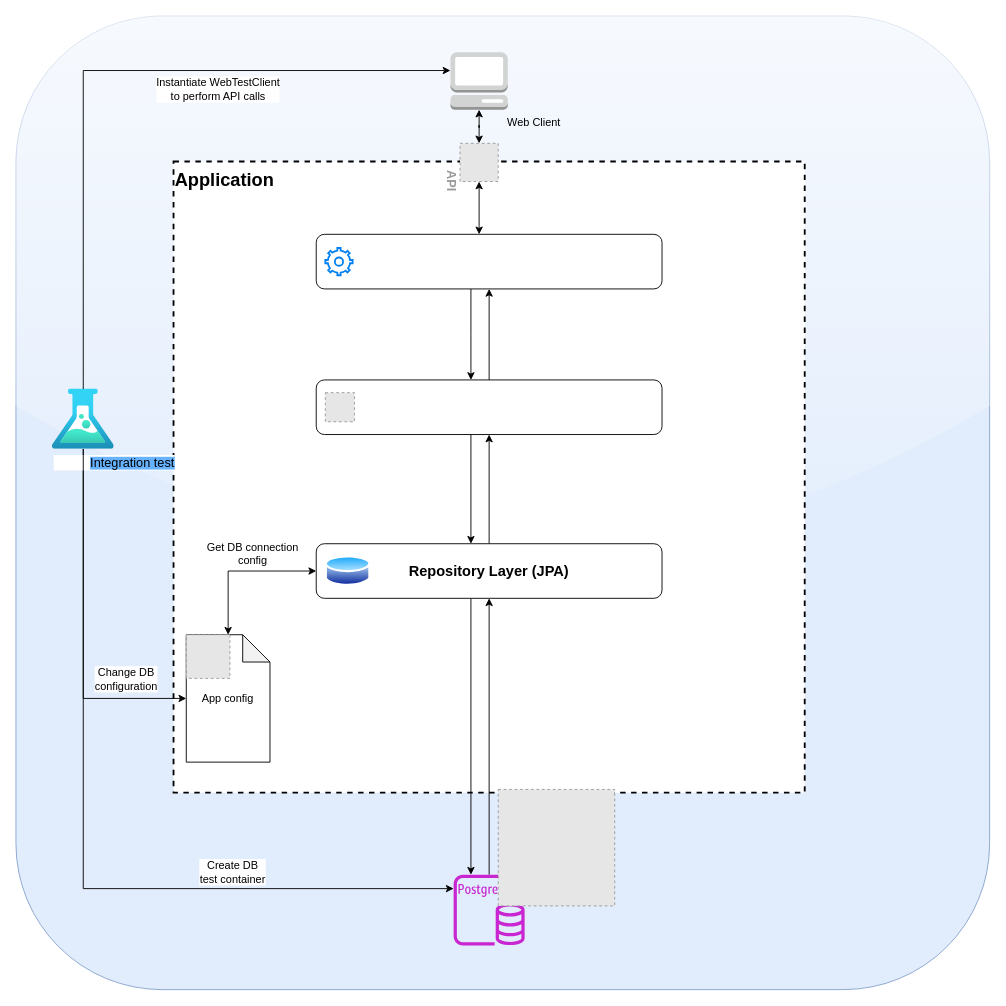
Image size: 1006x1006. Some labels were removed from this diagram. Grey dashed boxes stand in for pictures. Each missing label, with the box of its shape:
Business Layer: (315, 379, 662, 435)
Rest Controller: (315, 233, 662, 289)
